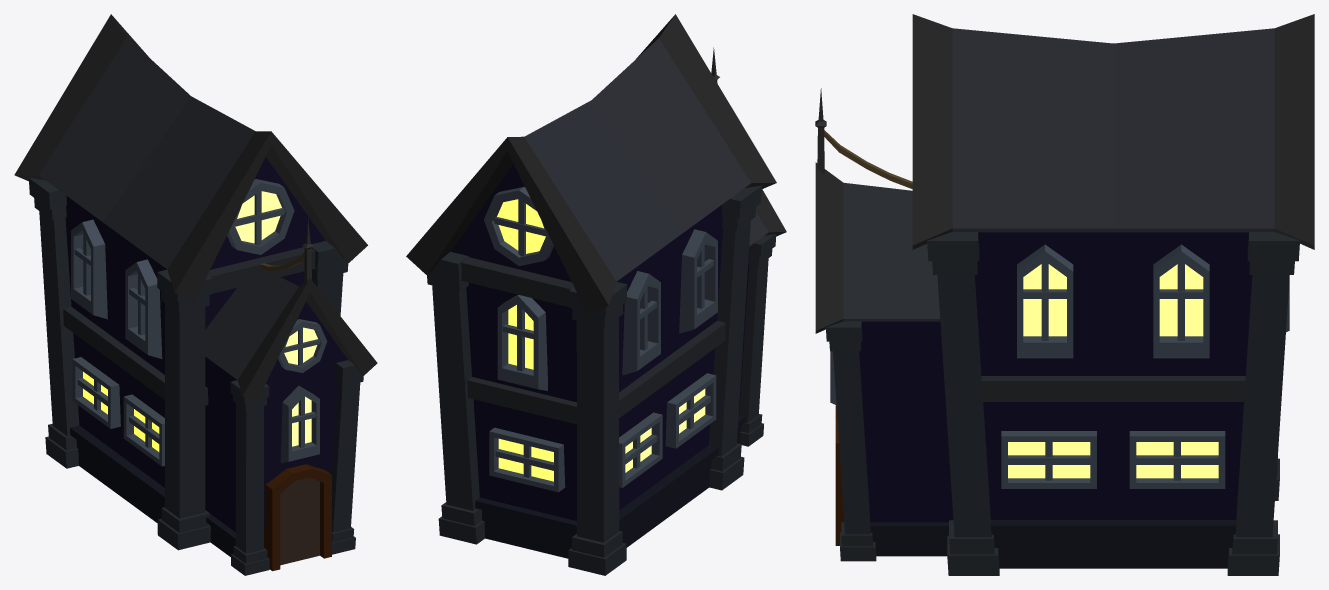
The model's file is Casa2.fbx.
3 renders of one model, left to right at view 1: azimuth 30°, elevation 25°; view 2: azimuth 150°, elevation 25°; view 3: azimuth 270°, elevation 25°, orthographic. The views are drawn at different scales.
Parts seen in each view (by area): view 1: Teto02, Pilar02, Parede02, JanelaMolde02, Divisao02, Base02, Porta02, PortaContorno02, JanelaFundo02; view 2: Teto02, Pilar02, Parede02, JanelaMolde02, Divisao02, Base02, JanelaFundo02; view 3: Teto02, Parede02, Pilar02, JanelaMolde02, Base02, JanelaFundo02, Divisao02, PortaContorno02, Corda02.
Part boxes in pixels (x1,y1,x2,y2): Teto02: (14, 14, 377, 401); Pilar02: (28, 178, 366, 575); Parede02: (65, 157, 347, 536); JanelaMolde02: (71, 179, 327, 466); Divisao02: (63, 247, 316, 405); Base02: (70, 425, 235, 556); Porta02: (280, 477, 319, 565); PortaContorno02: (264, 464, 331, 571); JanelaFundo02: (83, 191, 317, 451); Teto02: (406, 14, 786, 314); Pilar02: (422, 185, 776, 575); Parede02: (451, 164, 749, 520); JanelaMolde02: (484, 187, 717, 492); Divisao02: (460, 257, 725, 424); Base02: (475, 415, 745, 558); JanelaFundo02: (497, 199, 705, 481); Teto02: (815, 14, 1314, 333); Parede02: (859, 232, 1252, 522); Pilar02: (825, 232, 1299, 575); JanelaMolde02: (830, 244, 1289, 488); Base02: (870, 520, 1236, 568); JanelaFundo02: (1008, 264, 1218, 478); Divisao02: (981, 376, 1245, 401); PortaContorno02: (835, 405, 844, 545); Corda02: (824, 130, 912, 188).
Size of the model in its own units: 428 by 867 by 763.
